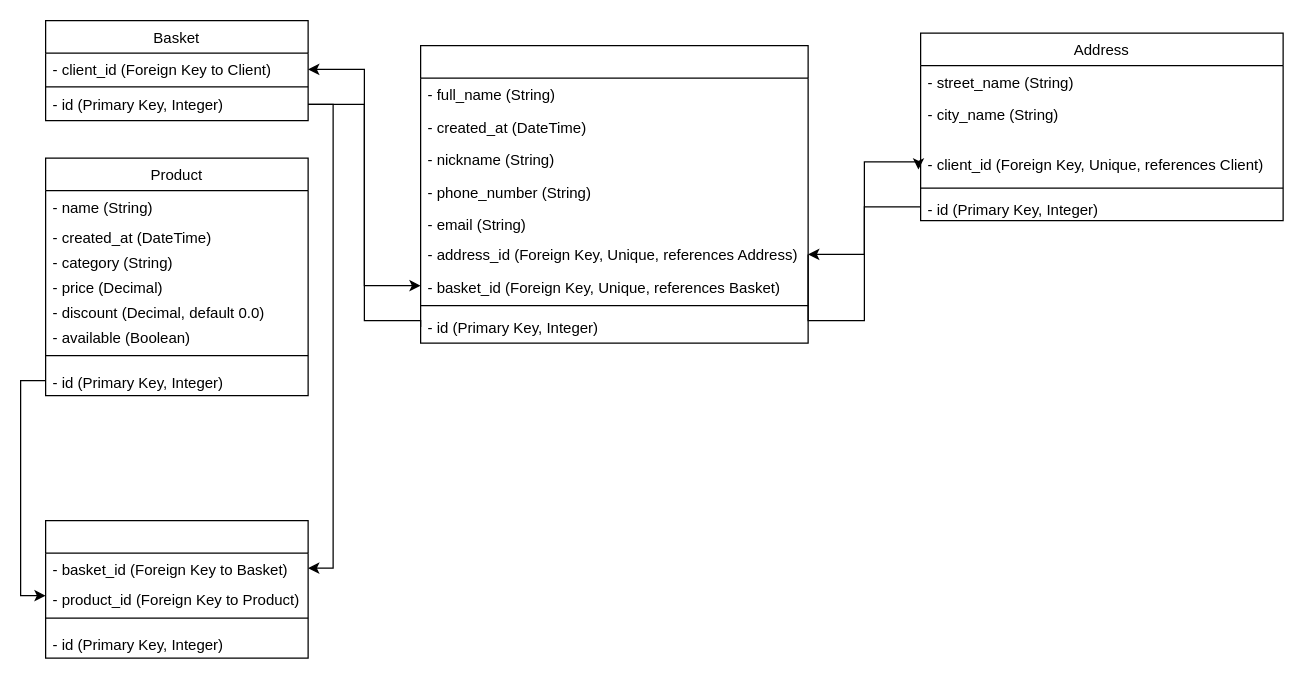
Some shapes in this 1304 by 679 pixel diagram are drawn without their labels. Each missing label, with the box of its shape:
BasketProduct: (44, 519, 308, 658)
Client: (419, 44, 808, 343)
